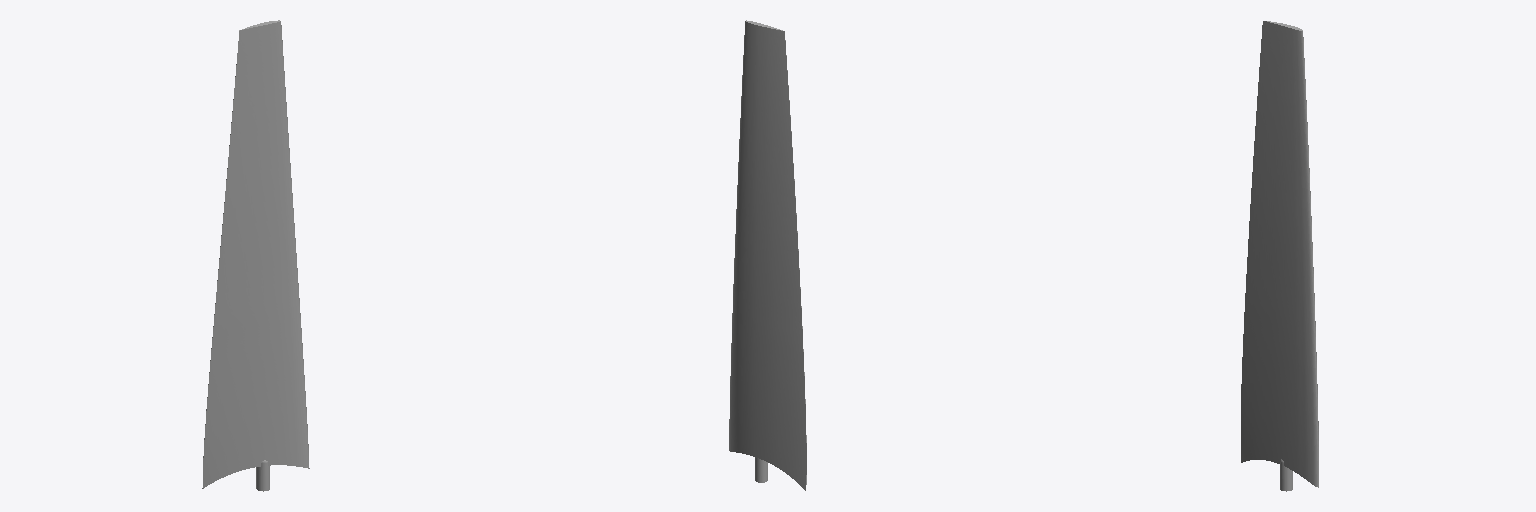
URDF robot description (myobj):
<robot name="myobj">
      <link name="tray_base_link">
        <inertial>
          <origin rpy="0 0 0" xyz="0 0 0"/>
          <mass value="0"/>
          <inertia ixx="0" ixy="0" ixz="0" iyy="0" iyz="0" izz="0"/>
        </inertial>
        <visual>
          <origin rpy="0 0 0" xyz="0 0 0"/>
          <geometry>
            <mesh filename="../mould/blade2.obj" scale="0.0005 0.0005 0.0005"/>
      </geometry>
          <material name="tray_material">
            <color rgba="0.7 0.7 0.7 1"/>
          </material>
        </visual>
      </link>
    </robot>

--- Facts derived from the render (not from the file) ---
Views: 3 orthographic renders of the robot side by side, from view 1: azimuth 30°, elevation 25°; view 2: azimuth 150°, elevation 25°; view 3: azimuth 330°, elevation 25°.
Robot: myobj — 1 links, 0 joints (none); root link tray_base_link; default pose: every joint at zero.
Links seen in each view (by area): view 1: tray_base_link; view 2: tray_base_link; view 3: tray_base_link.
Link boxes in pixels (x1=…): tray_base_link: x1=202, y1=20, x2=309, y2=491; tray_base_link: x1=729, y1=20, x2=806, y2=490; tray_base_link: x1=1241, y1=21, x2=1318, y2=491.
Size in the robot's own frame: 0.0771 by 0.0225 by 0.37 metres.
1 mesh visuals loaded from 1 distinct referenced files (1 OBJ).